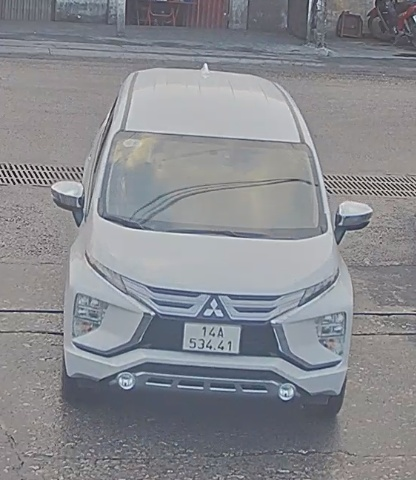vehicle plate: (182, 317, 244, 358)
